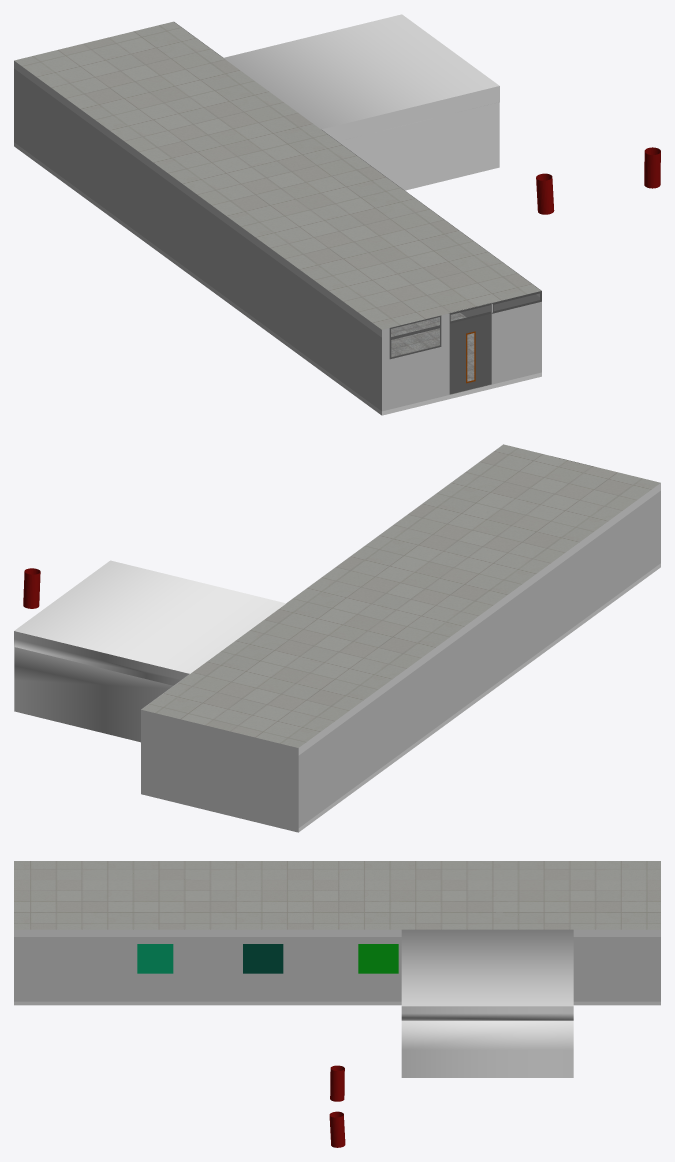
Rendered from PSAILLO NUEVO.fbx.
3 views of the same model, one above another, from view 1: azimuth 30°, elevation 25°; view 2: azimuth 150°, elevation 25°; view 3: azimuth 270°, elevation 25° (orthographic). The views are drawn at different scales.
Visible parts, largest first — view 1: techo, pared izquierda, pared derecha, pared de atras, pared de atras.001, Cube, piso, Cylinder.001; view 2: techo, pared izquierda, pared derecha, pared de adelante, Cube, Cylinder.001; view 3: pared derecha, techo, Cube, Cylinder.001.
Boxes of the visible parts, x1,y1,x2,y2 form: techo: [14, 21, 540, 329]; pared izquierda: [14, 61, 381, 410]; pared derecha: [174, 14, 541, 317]; pared de atras: [382, 291, 541, 411]; pared de atras.001: [449, 303, 491, 394]; Cube: [14, 142, 541, 415]; piso: [391, 312, 491, 394]; Cylinder.001: [536, 147, 660, 214]; techo: [141, 444, 660, 747]; pared izquierda: [298, 483, 660, 827]; pared derecha: [14, 445, 502, 742]; pared de adelante: [141, 709, 298, 828]; Cube: [141, 563, 660, 832]; Cylinder.001: [23, 568, 40, 608]; pared derecha: [14, 929, 660, 1077]; techo: [14, 861, 660, 929]; Cube: [14, 1001, 660, 1005]; Cylinder.001: [329, 1065, 345, 1147].
Bounding box in the file's own units: 764 × 160 × 1055.
